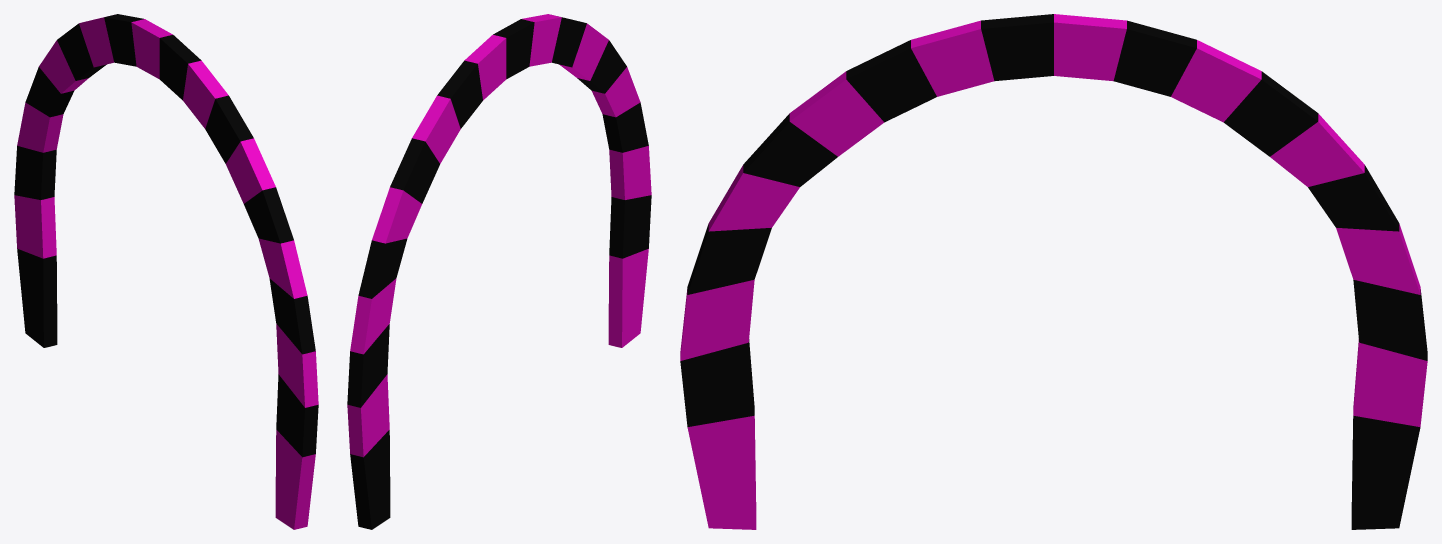
File: Boost Recharge Ring.fbx
3 views of the same model, side by side, from view 1: azimuth 30°, elevation 25°; view 2: azimuth 150°, elevation 25°; view 3: azimuth 270°, elevation 25° (orthographic). The views are drawn at different scales.
Parts seen in each view (by area): view 1: Boost Charge Ring; view 2: Boost Charge Ring; view 3: Boost Charge Ring.
Boxes of the visible parts, bbox=[...] form: Boost Charge Ring: bbox=[14, 14, 318, 529]; Boost Charge Ring: bbox=[347, 14, 651, 529]; Boost Charge Ring: bbox=[680, 14, 1427, 529].
Size of the model in its own units: 26.87 by 749 by 1000.
